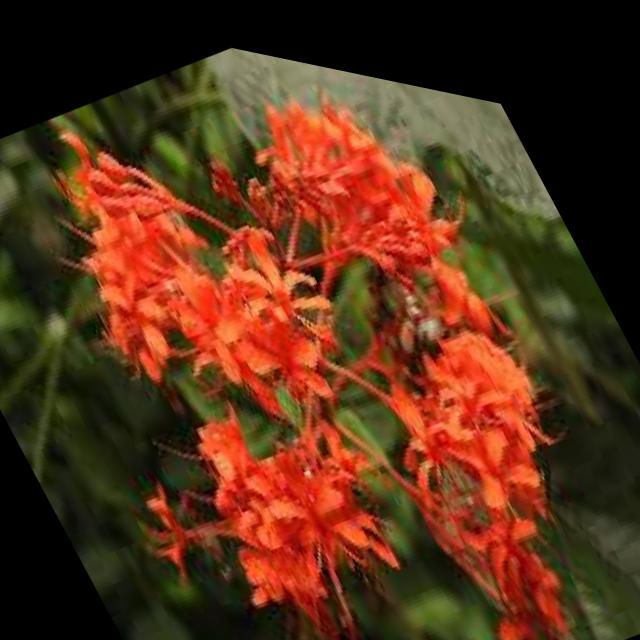Flower: (216, 36, 512, 378), (154, 314, 442, 640), (359, 287, 630, 633), (138, 121, 410, 457), (19, 109, 239, 402)
